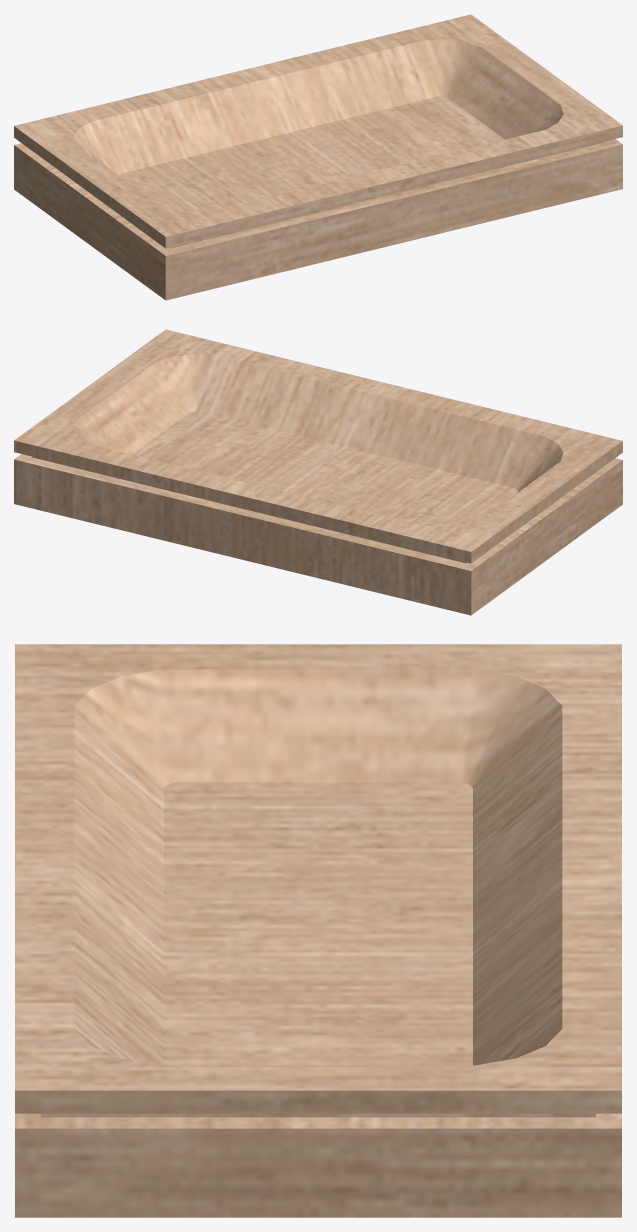
File: bath.FBX
3 renders of one model, top to bottom at view 1: azimuth 30°, elevation 25°; view 2: azimuth 150°, elevation 25°; view 3: azimuth 270°, elevation 25°, orthographic. The views are drawn at different scales.
Parts seen in each view (by area): view 1: bath; view 2: bath; view 3: bath.
Boxes of the visible parts, x1,y1,x2,y2 form: bath: (14,14,622,300); bath: (14,329,622,615); bath: (15,644,621,1217).
Bounding box in the file's own units: 148 × 19.69 × 85.23.
